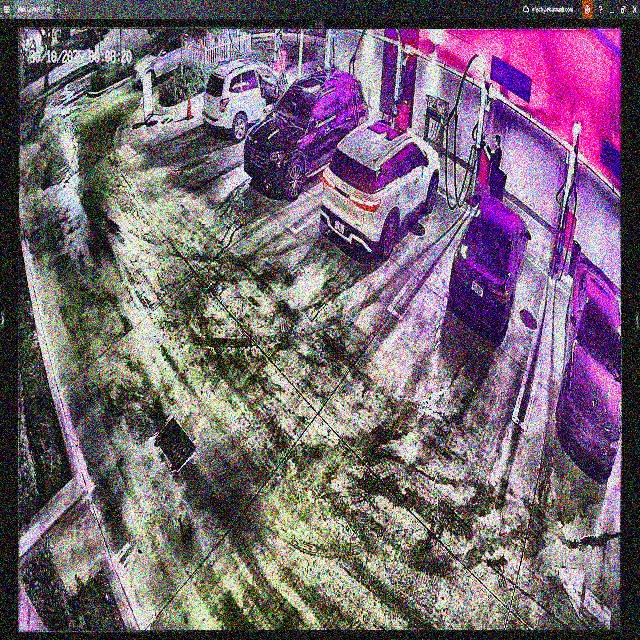Car: (321, 114, 438, 262), (246, 67, 368, 191), (449, 192, 528, 338)
